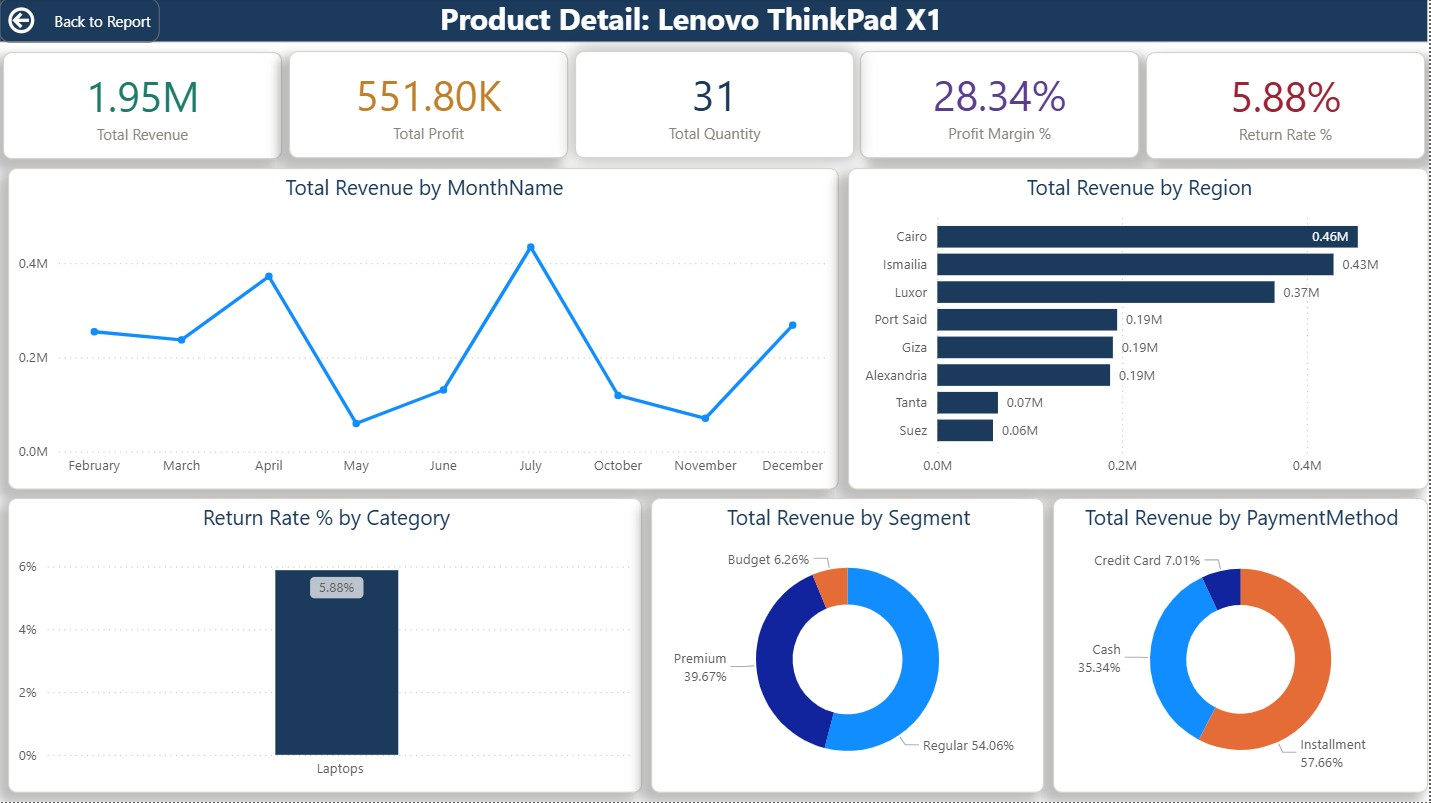

The dashboard page shown, as its layout file describes it:
{"tool":"powerbi","page":{"name":"Product Detail","canvas":[1280,720],"ordinal":4},"visuals":[{"type":"shape","box":[0,0,1280,40],"z":0},{"type":"actionButton","box":[0,0,144,40],"z":1000},{"type":"card","fields":{"Values":["_Measure.Page Title"]},"box":[344,0,552,38],"z":2000},{"type":"card","fields":{"Values":["_Measure.Total Revenue"]},"box":[4,48,250,96],"z":3000},{"type":"card","fields":{"Values":["_Measure.Total Profit"]},"box":[259.8,47.3,250,96],"z":4000},{"type":"card","fields":{"Values":["_Measure.Profit Margin %"]},"box":[771.2,47.3,250,96],"z":5000},{"type":"card","fields":{"Values":["_Measure.Total Quantity"]},"box":[515.5,47.3,250,96],"z":6000},{"type":"card","fields":{"Values":["_Measure.Return Rate %"]},"box":[1027,48,250,96],"z":7000},{"type":"lineChart","fields":{"Category":["DateTable.MonthName"],"Y":["_Measure.Total Revenue"]},"box":[8,152,744,288],"z":8000},{"type":"clusteredBarChart","fields":{"Category":["Stores.Region"],"Y":["_Measure.Total Revenue"]},"box":[760,152,520,288],"z":9000},{"type":"donutChart","fields":{"Category":["Sales.PaymentMethod"],"Y":["_Measure.Total Revenue"]},"box":[944,448,336,264],"z":10000},{"type":"lineClusteredColumnComboChart","fields":{"Y":["_Measure.Return Rate %"],"Category":["Products.Category","Products.ProductName"]},"box":[8,448,568,264],"z":11000},{"type":"donutChart","fields":{"Category":["Customers.Segment"],"Y":["_Measure.Total Revenue"]},"box":[584,448,352,264],"z":12000}]}

Visuals, with their boxes in screenshot pixels (x1, y1, x2, y2), scaled from the page's 1280x720 canvas onto the 1431x803 screenshot:
shape: [0, 0, 1430, 45]
actionButton: [0, 0, 161, 45]
card - _Measure.Page Title: [385, 0, 1002, 42]
card - _Measure.Total Revenue: [4, 54, 284, 161]
card - _Measure.Total Profit: [290, 53, 570, 160]
card - _Measure.Profit Margin %: [862, 53, 1142, 160]
card - _Measure.Total Quantity: [576, 53, 856, 160]
card - _Measure.Return Rate %: [1148, 54, 1428, 161]
lineChart - DateTable.MonthName x _Measure.Total Revenue: [9, 170, 841, 491]
clusteredBarChart - Stores.Region x _Measure.Total Revenue: [850, 170, 1430, 491]
donutChart - Sales.PaymentMethod x _Measure.Total Revenue: [1055, 500, 1430, 794]
lineClusteredColumnComboChart - _Measure.Return Rate % x Products.Category: [9, 500, 644, 794]
donutChart - Customers.Segment x _Measure.Total Revenue: [653, 500, 1046, 794]
